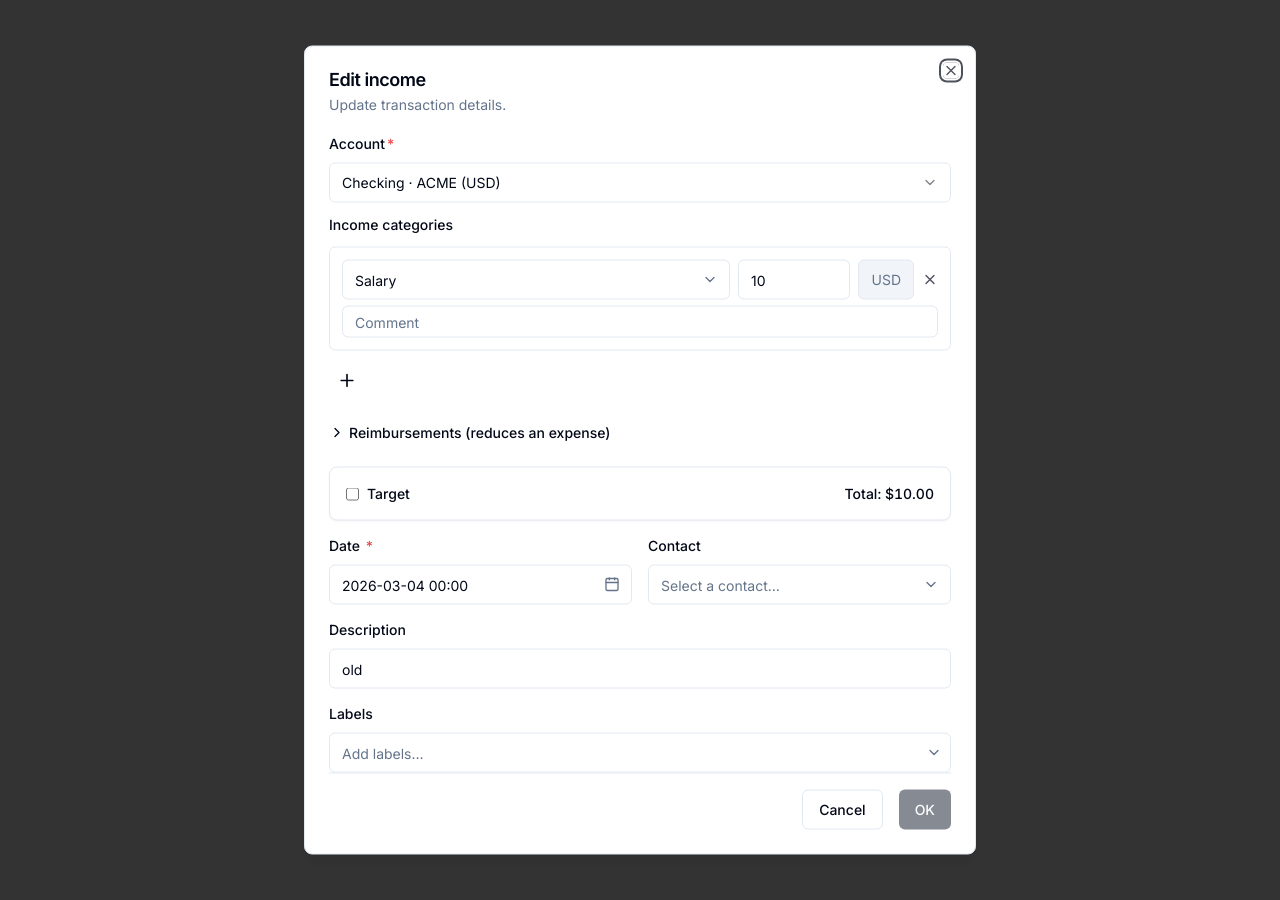
Test case: EditTransactionDialog › fieldErrors.targetAccountId on income amendment maps to the accountId field
Replace the text in the number field named "Amount" with "25" at {"x": 794, "y": 280}, box [738, 260, 850, 300]
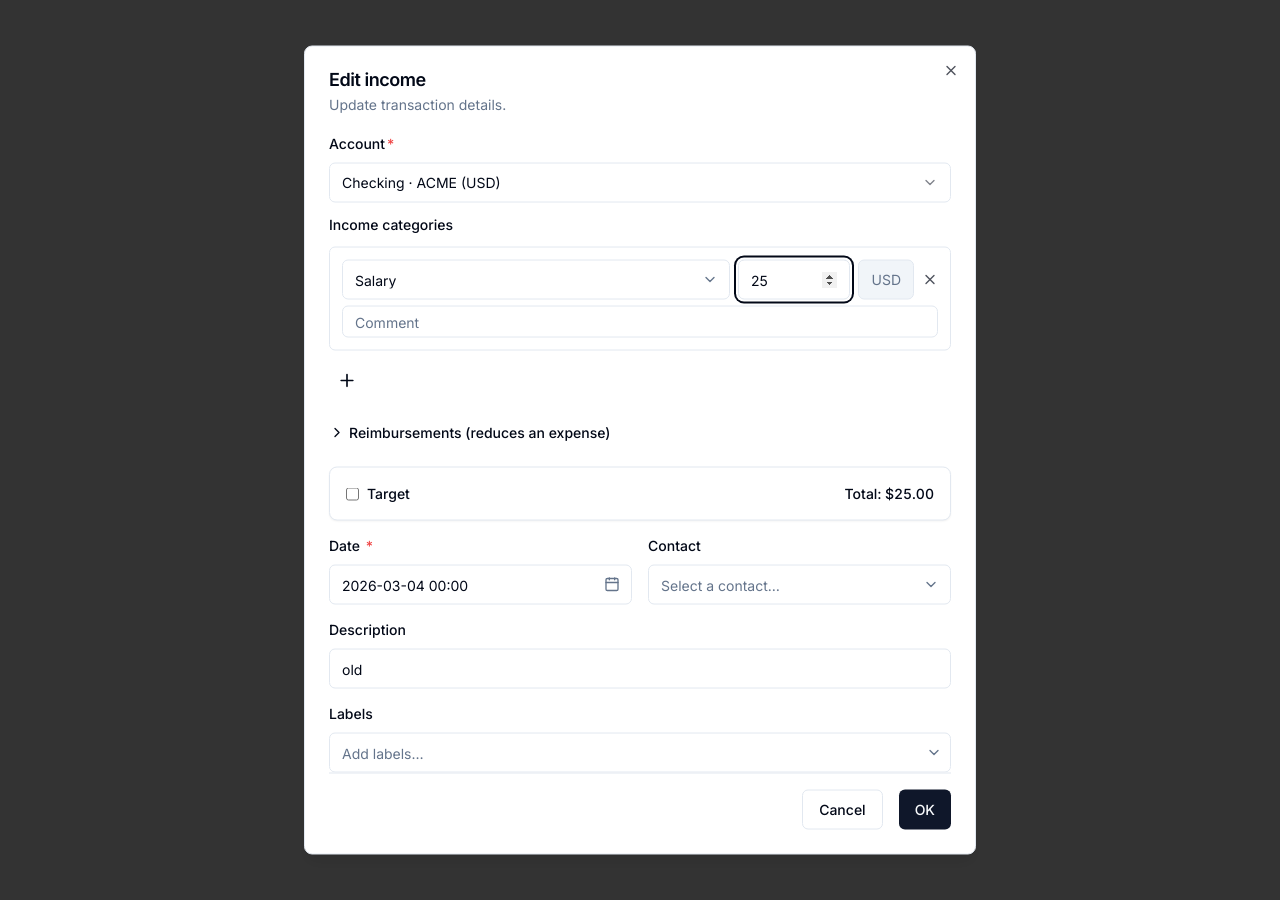
Click the button "OK" at {"x": 925, "y": 810}, box [899, 790, 951, 830]
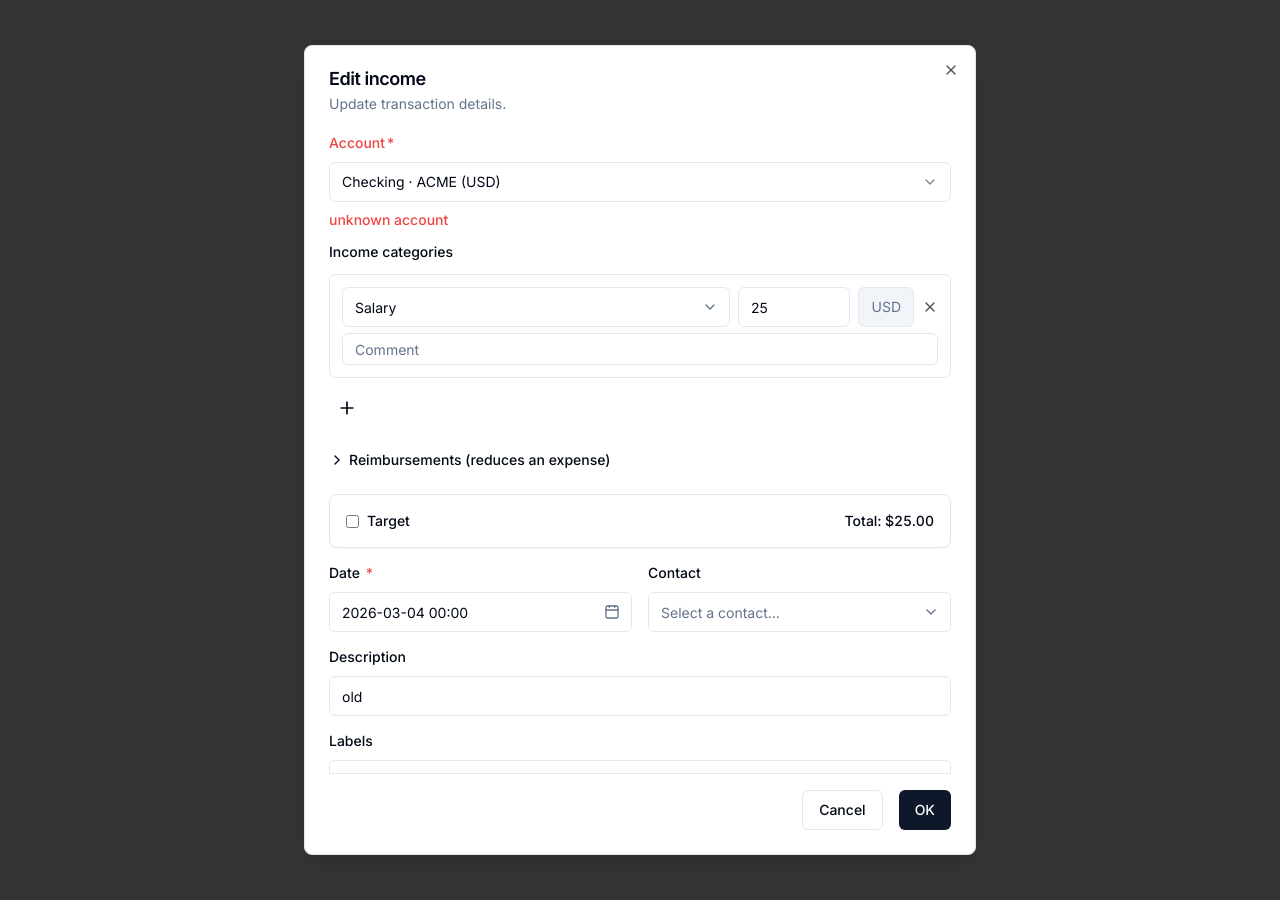
Now the text "unknown account" is shown, box [329, 211, 448, 228]
